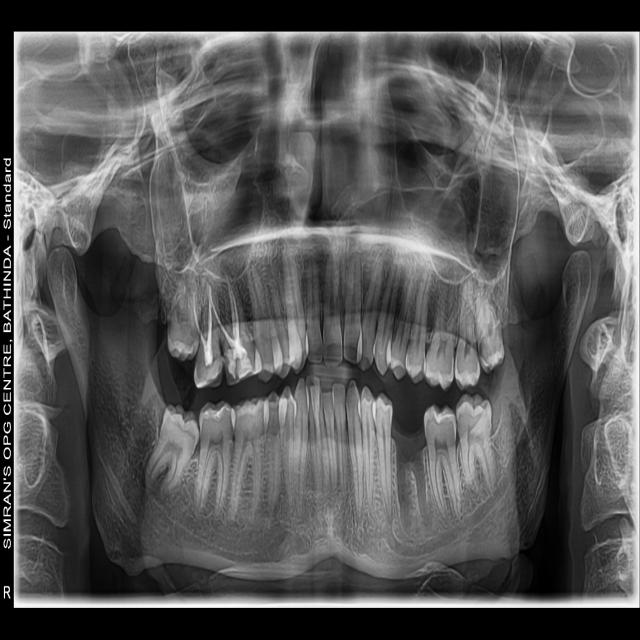Filling: (224, 339, 252, 380)
Missing teeth: (392, 405, 425, 453)
Root Canal Treatment: (207, 284, 235, 349), (193, 291, 208, 351), (228, 279, 240, 340), (226, 270, 236, 339), (206, 286, 212, 351)
